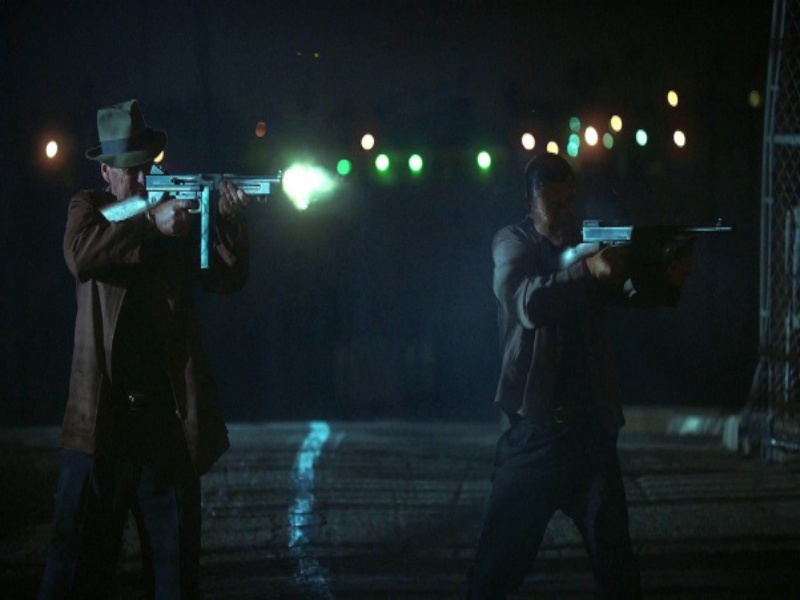person: (33, 101, 250, 596), (464, 155, 709, 593)
weapon: (97, 167, 283, 268), (553, 222, 737, 276)
